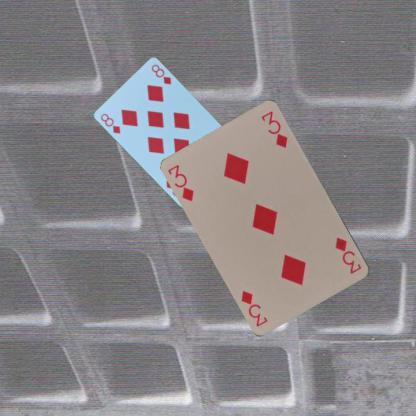3d: (165, 162, 196, 203), (333, 235, 363, 276)
8d: (98, 111, 122, 135)
